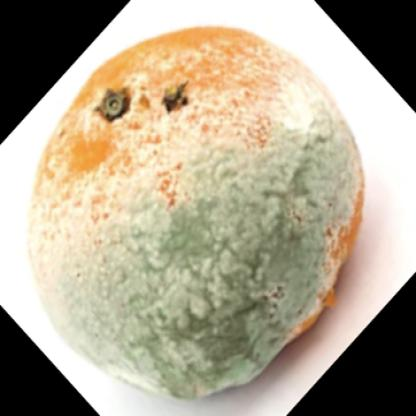rotten: (25, 26, 366, 397)
